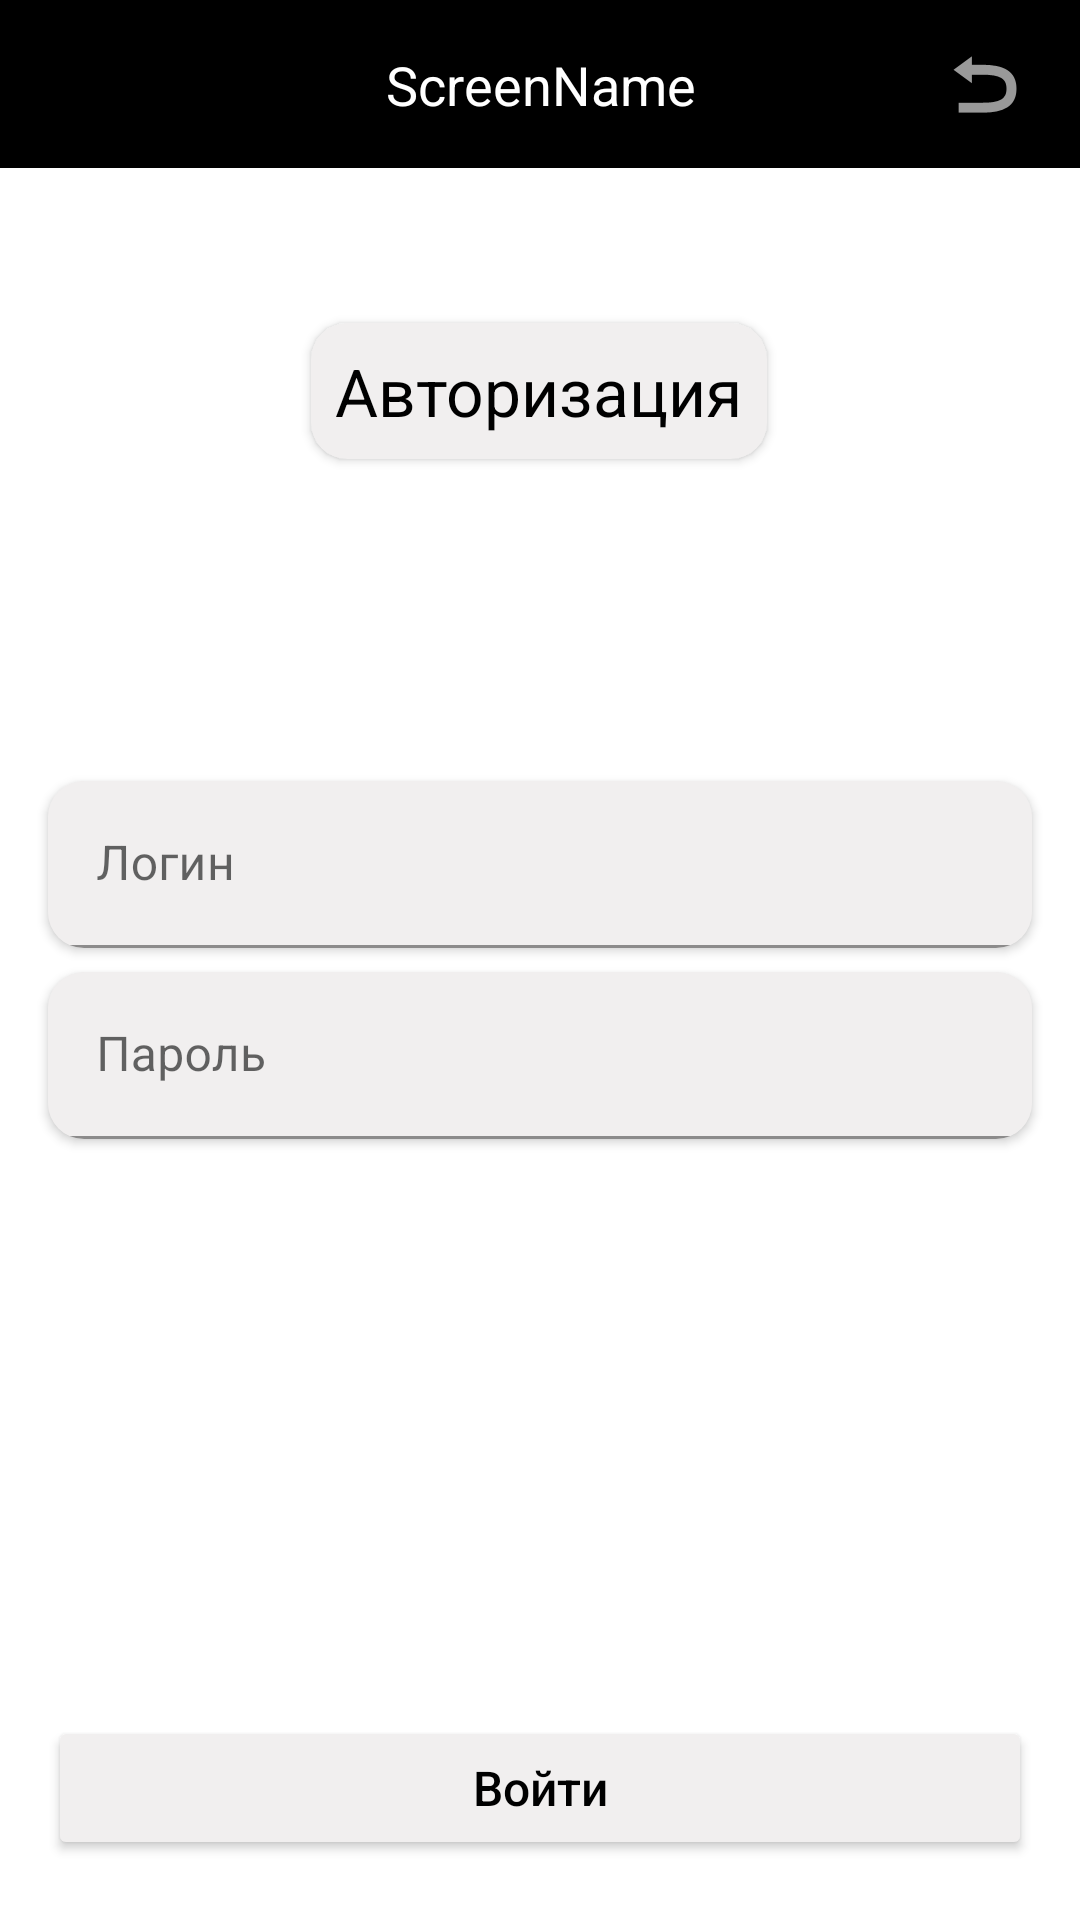

Locate icon controls on the screen. Image size 1080px x 1920px, boxes as (left=x1, top=y1, right=x2, bottom=y2).
revert: (left=954, top=56, right=1017, bottom=113)
